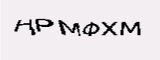Е: (32, 19, 44, 37)
М: (91, 10, 125, 49)
О: (52, 19, 64, 38)
Х: (45, 17, 52, 37)
Щ: (64, 12, 88, 46)
